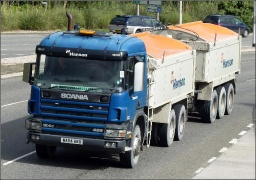truck: (20, 19, 246, 166)
